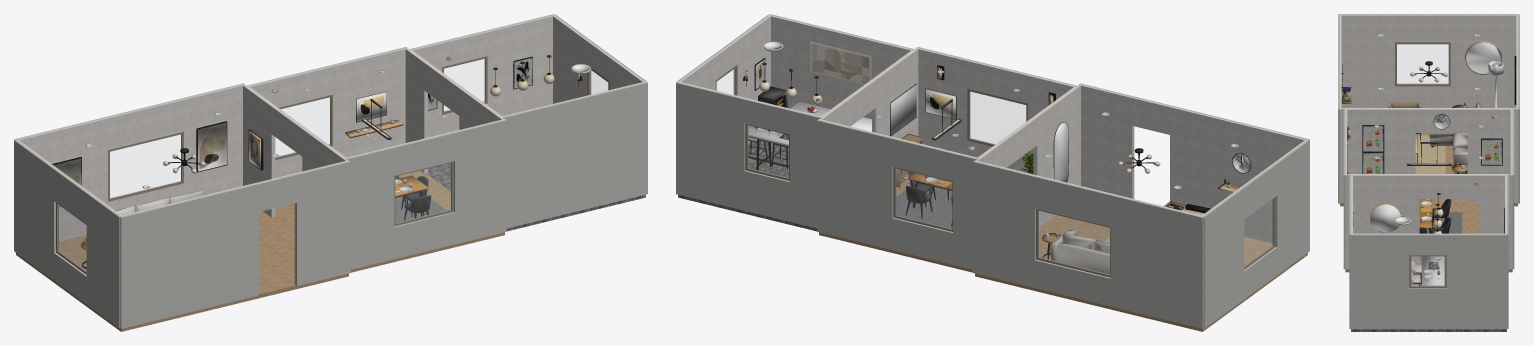
Rendered from scene_named.glb.
3 renders of one model, left to right at view 1: azimuth 30°, elevation 25°; view 2: azimuth 150°, elevation 25°; view 3: azimuth 270°, elevation 25°, orthographic. The views are drawn at different scales.
Parts seen in each view (by area): view 1: south_wall_exterior_living_room/south_wall_exterior_living_r, south_wall_exterior_kitchen/south_wall_exterior_kitchen/geom, south_wall_exterior_dining_room/south_wall_exterior_dining_r, north_wall_living_room/north_wall_living_room/geometry_0, west_wall_exterior_living_room/west_wall_exterior_living_roo, north_wall_dining_room/north_wall_dining_room/geometry_0, north_wall_kitchen/north_wall_kitchen/geometry_0, floor_living_room, east_wall_living_room/east_wall_living_room/geometry_0, east_wall_dining_room/east_wall_dining_room/geometry_0, east_wall_kitchen/east_wall_kitchen/geometry_0, window_1_living_room/window_1_living_room/glass (+17 smaller); view 2: north_wall_exterior_living_room/north_wall_exterior_living_r, south_wall_living_room/south_wall_living_room/geometry_0, north_wall_exterior_dining_room/north_wall_exterior_dining_r, north_wall_exterior_kitchen/north_wall_exterior_kitchen/geom, west_wall_exterior_living_room/west_wall_exterior_living_roo, south_wall_dining_room/south_wall_dining_room/geometry_0, south_wall_kitchen/south_wall_kitchen/geometry_0, east_wall_living_room/east_wall_living_room/geometry_0, east_wall_dining_room/east_wall_dining_room/geometry_0, window_1_living_room/window_1_living_room/glass, east_wall_kitchen/east_wall_kitchen/geometry_0, floor_living_room (+18 smaller); view 3: east_wall_exterior_kitchen/east_wall_exterior_kitchen/geomet, west_wall_living_room/west_wall_living_room/geometry_0, west_wall_dining_room/west_wall_dining_room/geometry_0, west_wall_kitchen/west_wall_kitchen/geometry_0, window_2_living_room/window_2_living_room/glass, window_6_kitchen/window_6_kitchen/glass, mirror_0.002, rug_0.001, sectional_sofa_0, floor_dining_room, east_wall_living_room/east_wall_living_room/geometry_0, east_wall_dining_room/east_wall_dining_room/geometry_0 (+31 smaller).
Boxes of the visible parts, x1=… form: south_wall_exterior_living_room/south_wall_exterior_living_r: x1=120, y1=161, x2=350, y2=328; south_wall_exterior_kitchen/south_wall_exterior_kitchen/geom: x1=502, y1=82, x2=647, y2=228; south_wall_exterior_dining_room/south_wall_exterior_dining_r: x1=345, y1=120, x2=506, y2=269; north_wall_living_room/north_wall_living_room/geometry_0: x1=18, y1=84, x2=245, y2=241; west_wall_exterior_living_room/west_wall_exterior_living_roo: x1=14, y1=140, x2=120, y2=328; north_wall_dining_room/north_wall_dining_room/geometry_0: x1=246, y1=47, x2=408, y2=177; north_wall_kitchen/north_wall_kitchen/geometry_0: x1=410, y1=15, x2=555, y2=137; floor_living_room: x1=16, y1=211, x2=348, y2=331; east_wall_living_room/east_wall_living_room/geometry_0: x1=242, y1=84, x2=348, y2=217; east_wall_dining_room/east_wall_dining_room/geometry_0: x1=405, y1=48, x2=503, y2=173; east_wall_kitchen/east_wall_kitchen/geometry_0: x1=553, y1=16, x2=644, y2=103; window_1_living_room/window_1_living_room/glass: x1=110, y1=135, x2=180, y2=198; north_wall_exterior_living_room/north_wall_exterior_living_r: x1=973, y1=161, x2=1203, y2=328; south_wall_living_room/south_wall_living_room/geometry_0: x1=1078, y1=84, x2=1305, y2=243; north_wall_exterior_dining_room/north_wall_exterior_dining_r: x1=817, y1=120, x2=978, y2=269; north_wall_exterior_kitchen/north_wall_exterior_kitchen/geom: x1=676, y1=82, x2=821, y2=228; west_wall_exterior_living_room/west_wall_exterior_living_roo: x1=1203, y1=140, x2=1309, y2=328; south_wall_dining_room/south_wall_dining_room/geometry_0: x1=915, y1=47, x2=1077, y2=173; south_wall_kitchen/south_wall_kitchen/geometry_0: x1=768, y1=15, x2=913, y2=119; east_wall_living_room/east_wall_living_room/geometry_0: x1=975, y1=84, x2=1081, y2=227; east_wall_dining_room/east_wall_dining_room/geometry_0: x1=820, y1=48, x2=918, y2=138; window_1_living_room/window_1_living_room/glass: x1=1039, y1=211, x2=1109, y2=274; east_wall_kitchen/east_wall_kitchen/geometry_0: x1=679, y1=16, x2=770, y2=143; floor_living_room: x1=975, y1=215, x2=1307, y2=331; east_wall_exterior_kitchen/east_wall_exterior_kitchen/geomet: x1=1351, y1=234, x2=1506, y2=329; west_wall_living_room/west_wall_living_room/geometry_0: x1=1340, y1=14, x2=1517, y2=107; west_wall_dining_room/west_wall_dining_room/geometry_0: x1=1347, y1=109, x2=1510, y2=203; west_wall_kitchen/west_wall_kitchen/geometry_0: x1=1353, y1=174, x2=1504, y2=265; window_2_living_room/window_2_living_room/glass: x1=1397, y1=44, x2=1448, y2=83; window_6_kitchen/window_6_kitchen/glass: x1=1411, y1=256, x2=1444, y2=285; mirror_0.002: x1=1465, y1=41, x2=1502, y2=74; rug_0.001: x1=1415, y1=135, x2=1445, y2=173; sectional_sofa_0: x1=1429, y1=102, x2=1486, y2=173; floor_dining_room: x1=1345, y1=203, x2=1512, y2=272; east_wall_living_room/east_wall_living_room/geometry_0: x1=1340, y1=108, x2=1517, y2=202; east_wall_dining_room/east_wall_dining_room/geometry_0: x1=1347, y1=174, x2=1510, y2=268.
Bounding box in the file's own units: 14.1 × 2.9 × 4.9.
Materials: 90 (88 with a texture image).
